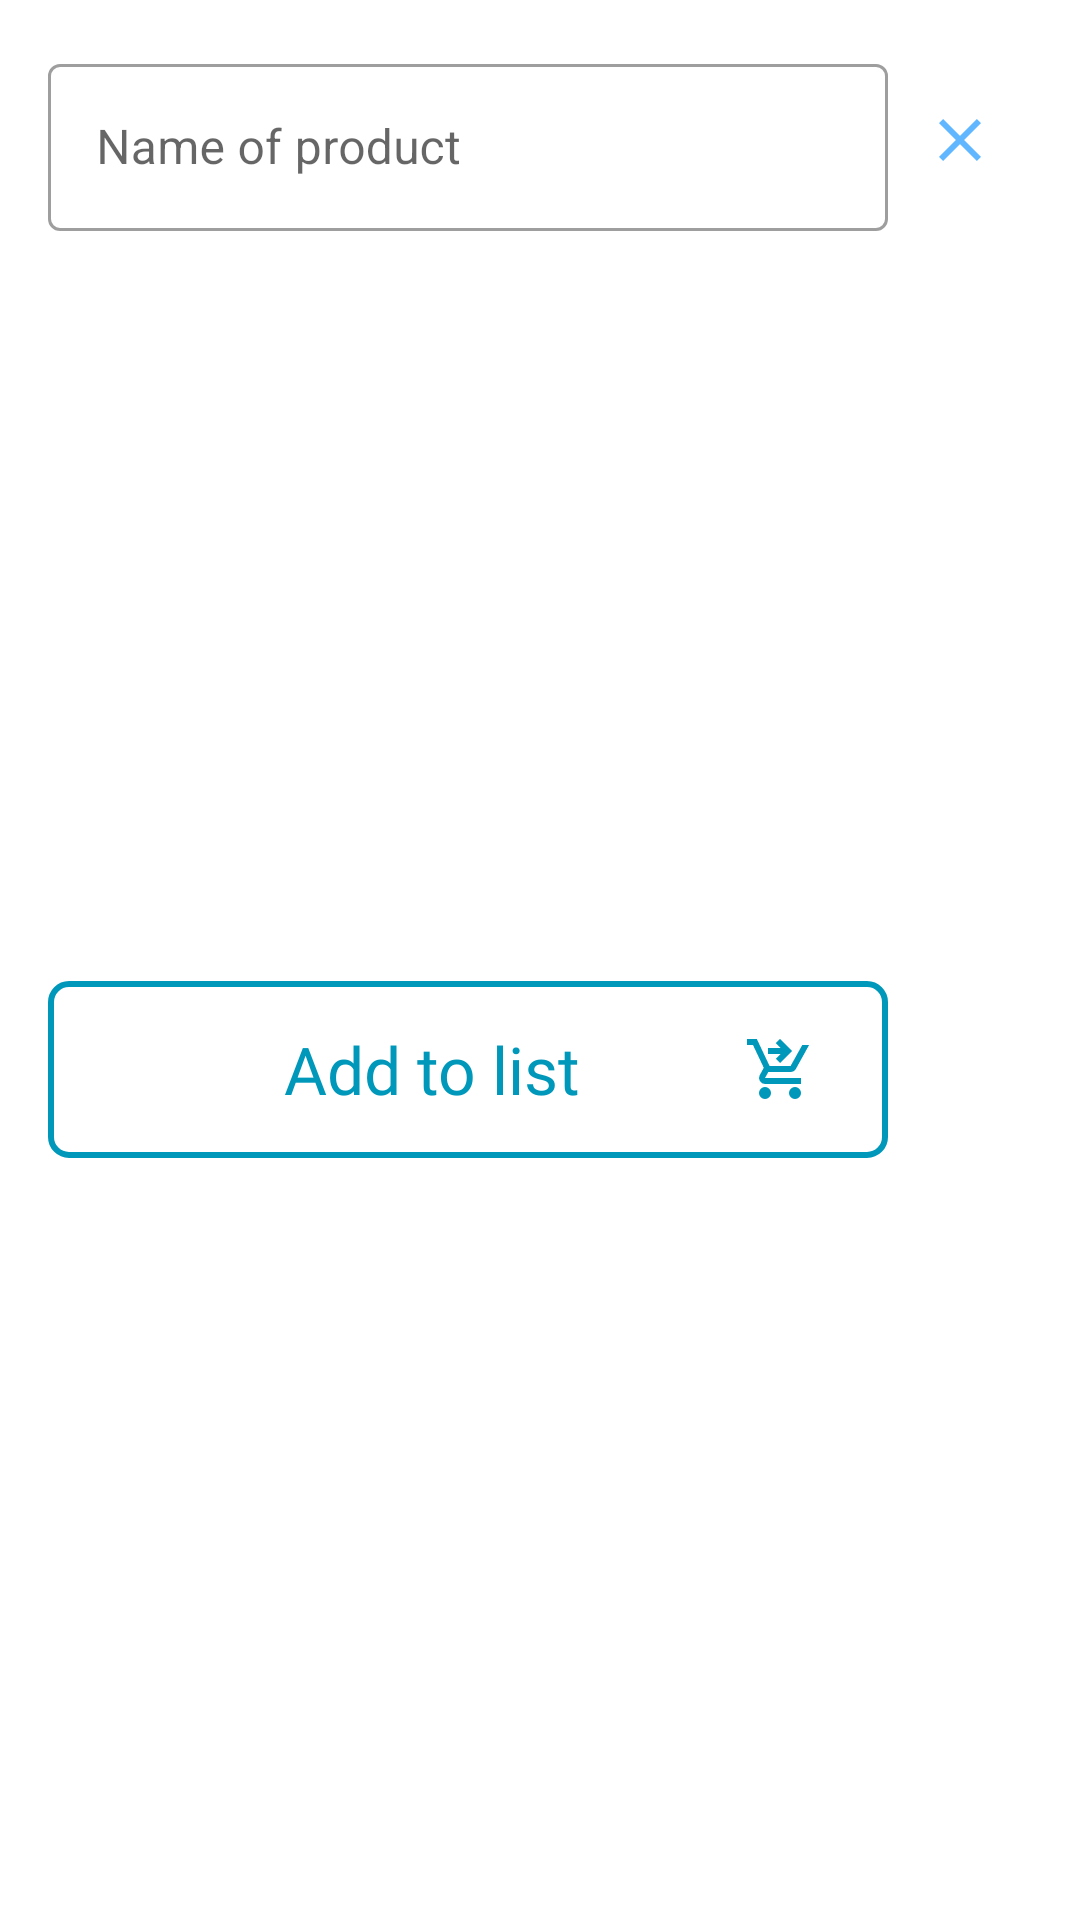

Point at icon controls on the screen. Image size 1080px x 1920px, points as [x,y].
Press to close: [960,140]
